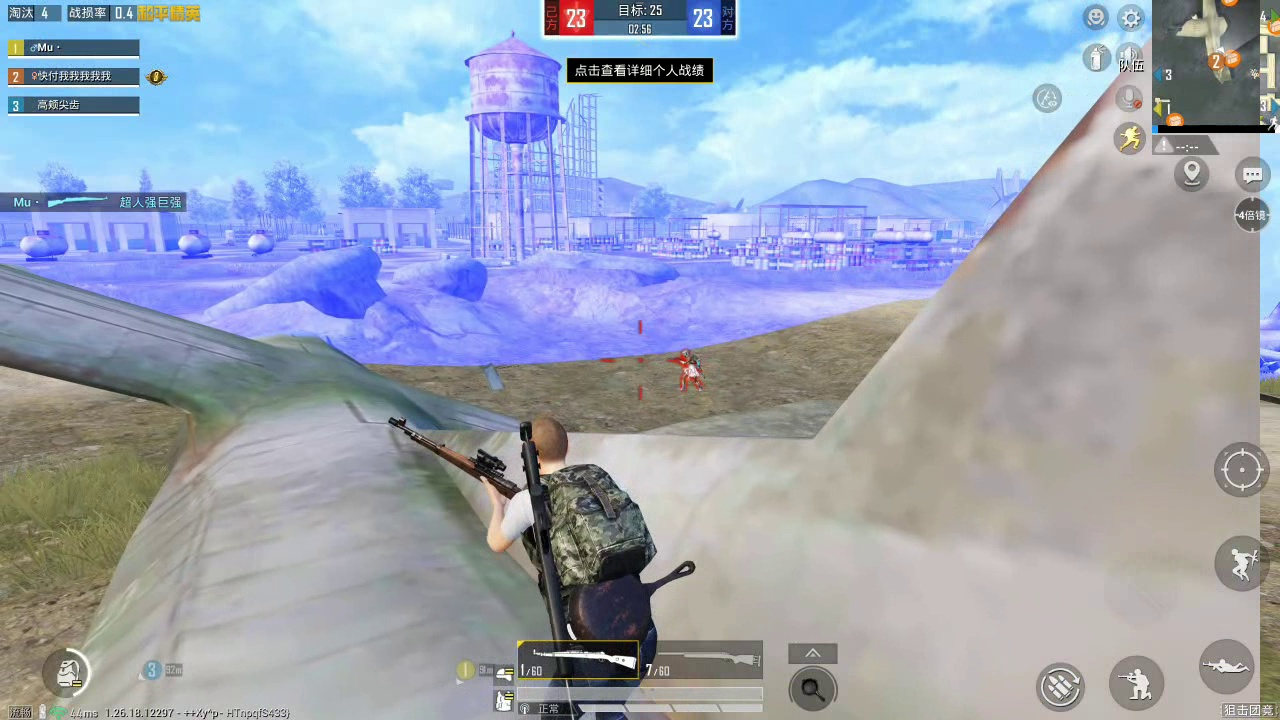enemy: (670, 348, 707, 388)
